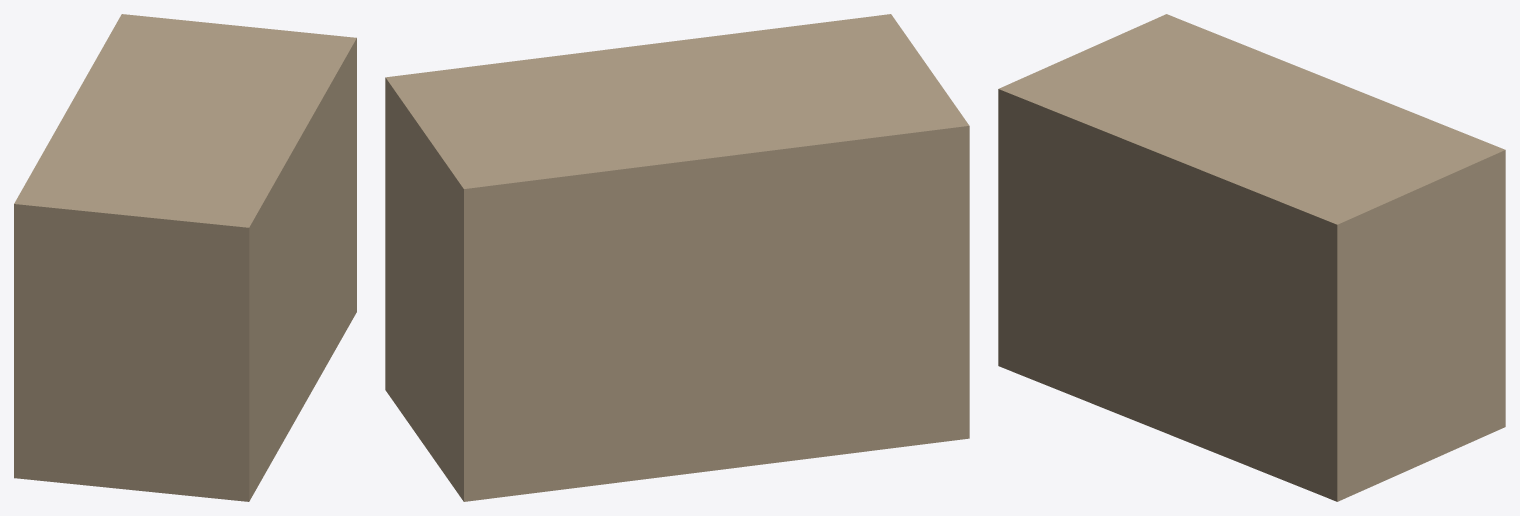
File: bld_100469493.dae
The picture shows the model from 3 angles, left to right: view 1: azimuth 30°, elevation 25°; view 2: azimuth 150°, elevation 25°; view 3: azimuth 270°, elevation 25°; orthographic projection. The views are drawn at different scales.
Visible parts, largest first — view 1: bld_100469493; view 2: bld_100469493; view 3: bld_100469493.
Part boxes in pixels (left/top/right/bottom): bld_100469493: left=14, top=14, right=356, bottom=501; bld_100469493: left=385, top=14, right=969, bottom=501; bld_100469493: left=998, top=14, right=1505, bottom=501.
Size of the model in its own units: 13.05 by 13.27 by 8.
